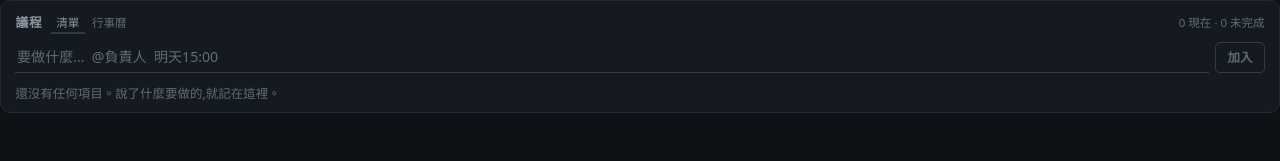
Scenario: @ mentions › shows the room when an @ is typed
In the dropdown named "新增項目": (612, 57) [15,42,1209,73], type "寄簡報 @"
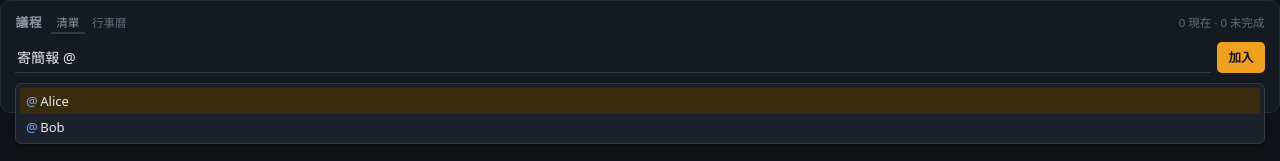
Expected: the list is shown, [15,83,1265,144]
Expected: the options read "@Alice", "@Bob", in this order, [20,88,1260,114]; [26,118,65,136]
